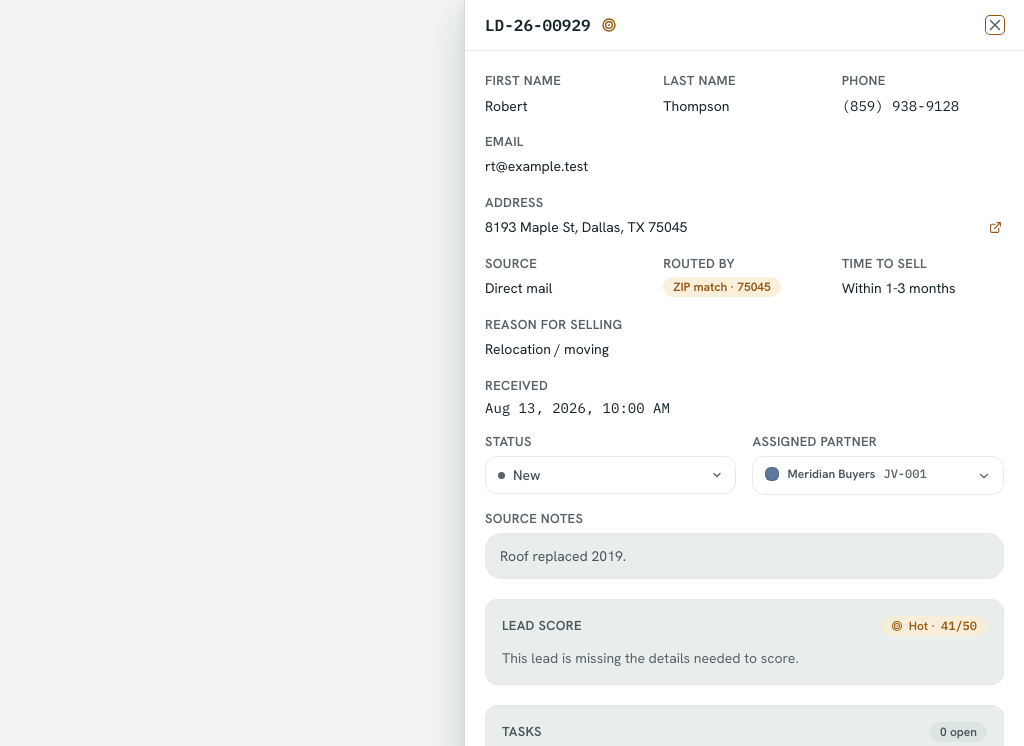
Test case: N5-12: the editable roster is exactly the EditForm's › N5-12/N5E-06: the twelve roster fields edit inline and nothing else does
Check: the button named "Phone:" is shown, box [842,94,983,118]
Check: the button with aria-label "Source:" is shown, box [485,276,626,301]
Click the button with aria-label "Address:" at (586, 227), box [485,215,958,240]
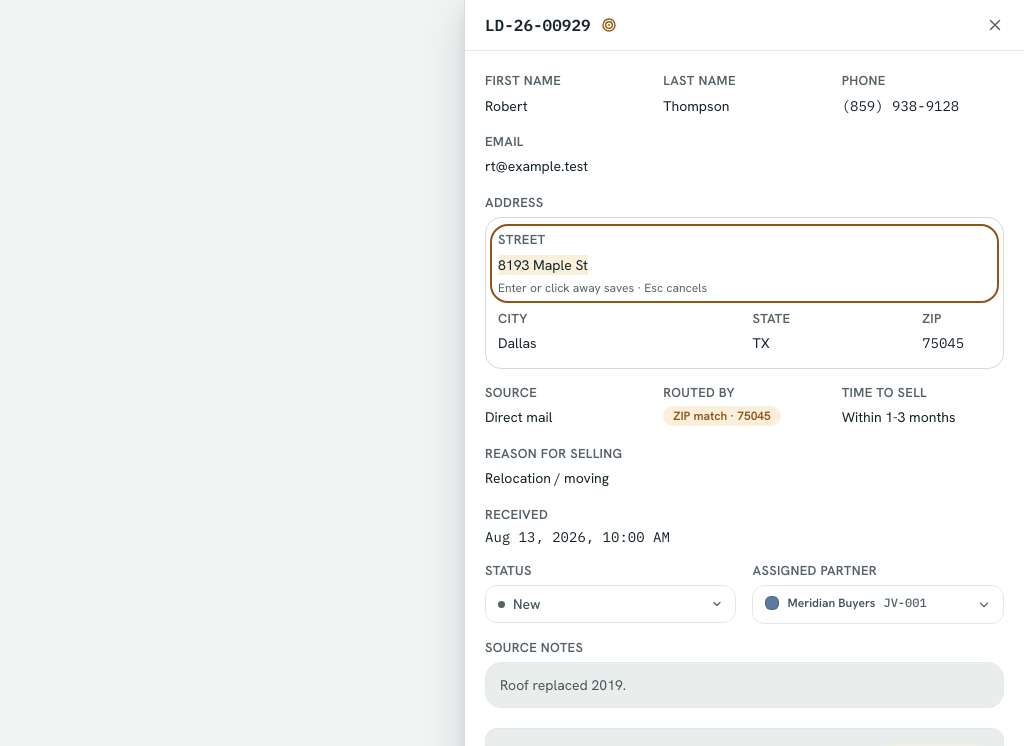
Check: the button with aria-label "City:" is shown, box [498,331,716,356]
Check: the field named "Street" is shown, box [498,254,991,274]
